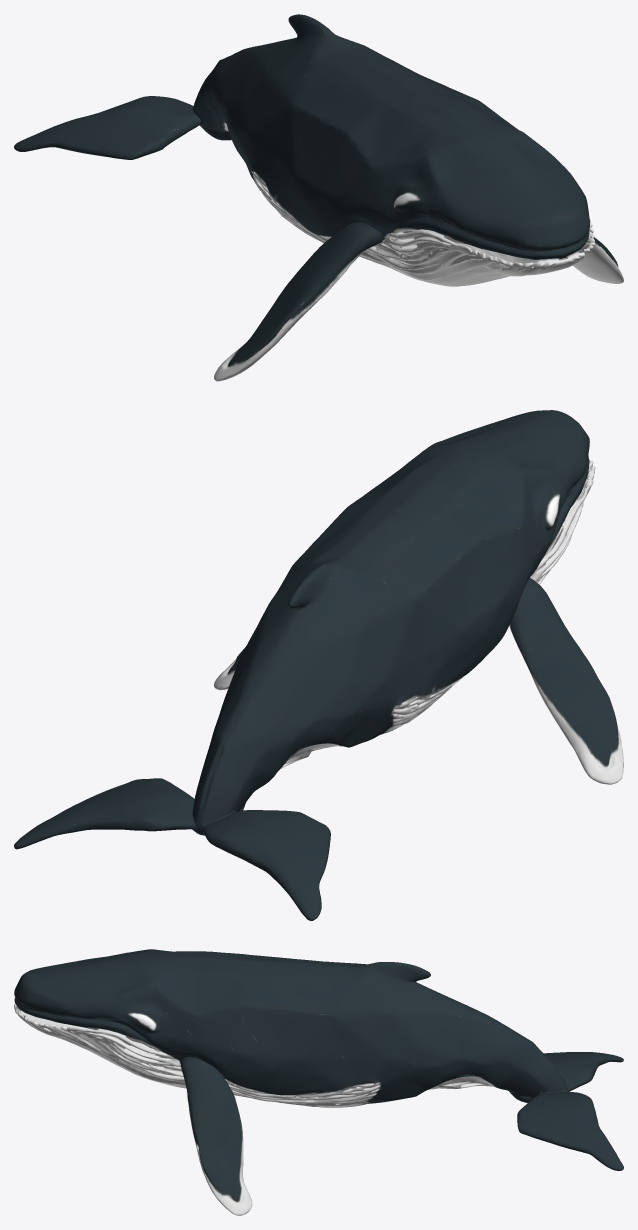
Rendered from whale2_3d.glb.
The picture shows the model from 3 angles, top to bottom: view 1: azimuth 30°, elevation 25°; view 2: azimuth 150°, elevation 25°; view 3: azimuth 270°, elevation 25°; orthographic projection. The views are drawn at different scales.
Parts seen in each view (by area): view 1: world; view 2: world; view 3: world.
Part boxes in pixels (x1=…): world: x1=14, y1=14, x2=623, y2=381; world: x1=14, y1=410, x2=623, y2=920; world: x1=14, y1=949, x2=623, y2=1215.
Size of the model in its own units: 0.581 by 0.3346 by 1.
1 material, 1 textured.
